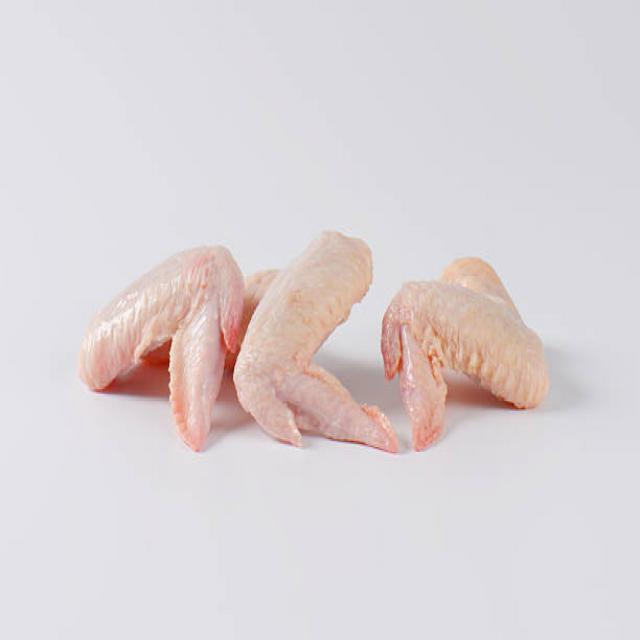Chicken: (235, 219, 390, 472), (383, 246, 548, 455), (76, 237, 236, 446)
